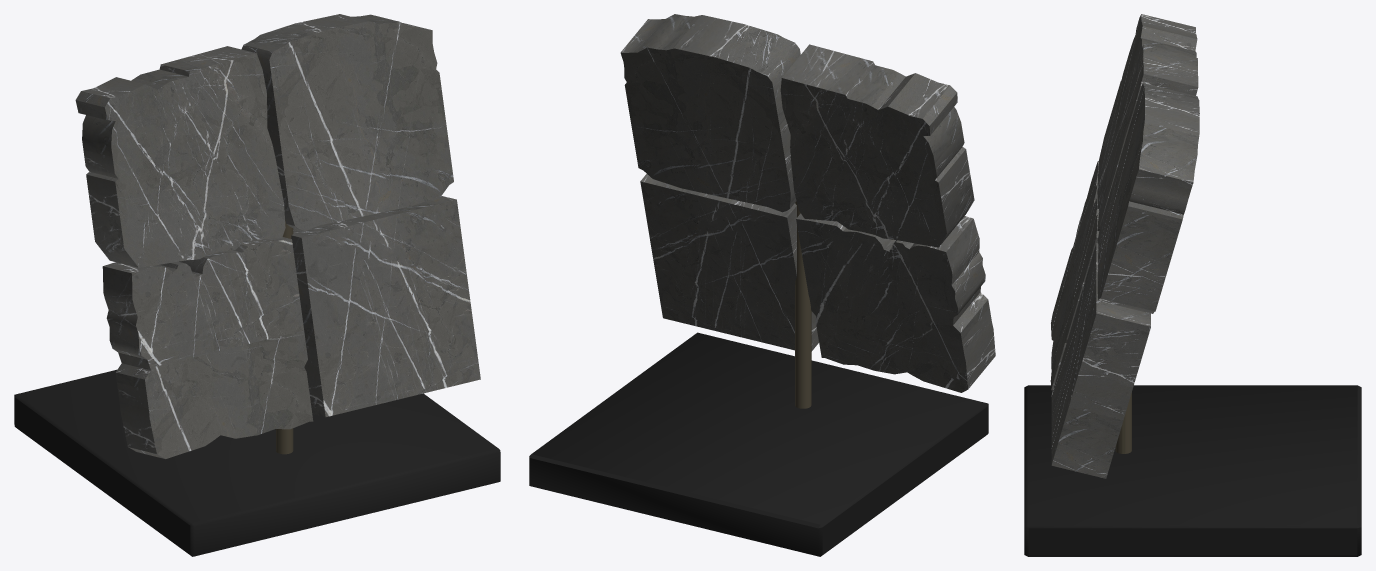
The model's file is cgt_Accessory_2_001.glb.
The picture shows the model from 3 angles, left to right: view 1: azimuth 30°, elevation 25°; view 2: azimuth 150°, elevation 25°; view 3: azimuth 270°, elevation 25°; orthographic projection. The views are drawn at different scales.
Parts seen in each view (by area): view 1: cgt_Accessory_2_001; view 2: cgt_Accessory_2_001; view 3: cgt_Accessory_2_001.
Part boxes in pixels (x1,y1,x2,y2): cgt_Accessory_2_001: (14, 14, 500, 556); cgt_Accessory_2_001: (529, 14, 995, 556); cgt_Accessory_2_001: (1024, 14, 1361, 556).
Size of the model in its own units: 0.155 by 0.1908 by 0.1438.
Materials: 3 (1 with a texture image).
